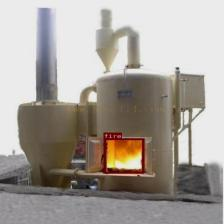fire: (103, 138, 144, 173)
